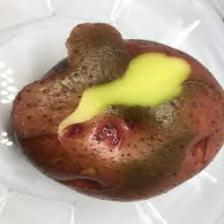Defected potato: (20, 25, 219, 209)
